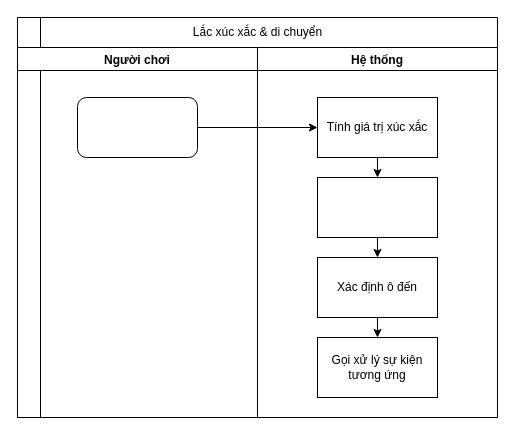
Image size: 515x435. Some labels were removed from this diagram. The box of each missing label's shape, as (x1, y1, x2, y2) in pixels:
Di chuyển theo số bước: (316, 176, 438, 238)
Nhấn nút "Lắc xúc xắc": (76, 96, 198, 158)
